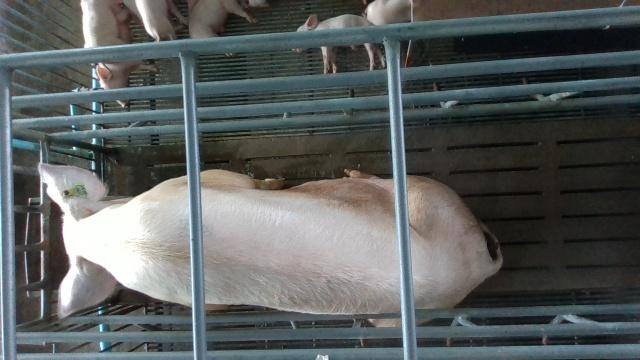piglet: (81, 0, 139, 108), (292, 14, 387, 74), (190, 0, 258, 56), (135, 0, 177, 41)
sow-sit: (39, 161, 505, 328)
